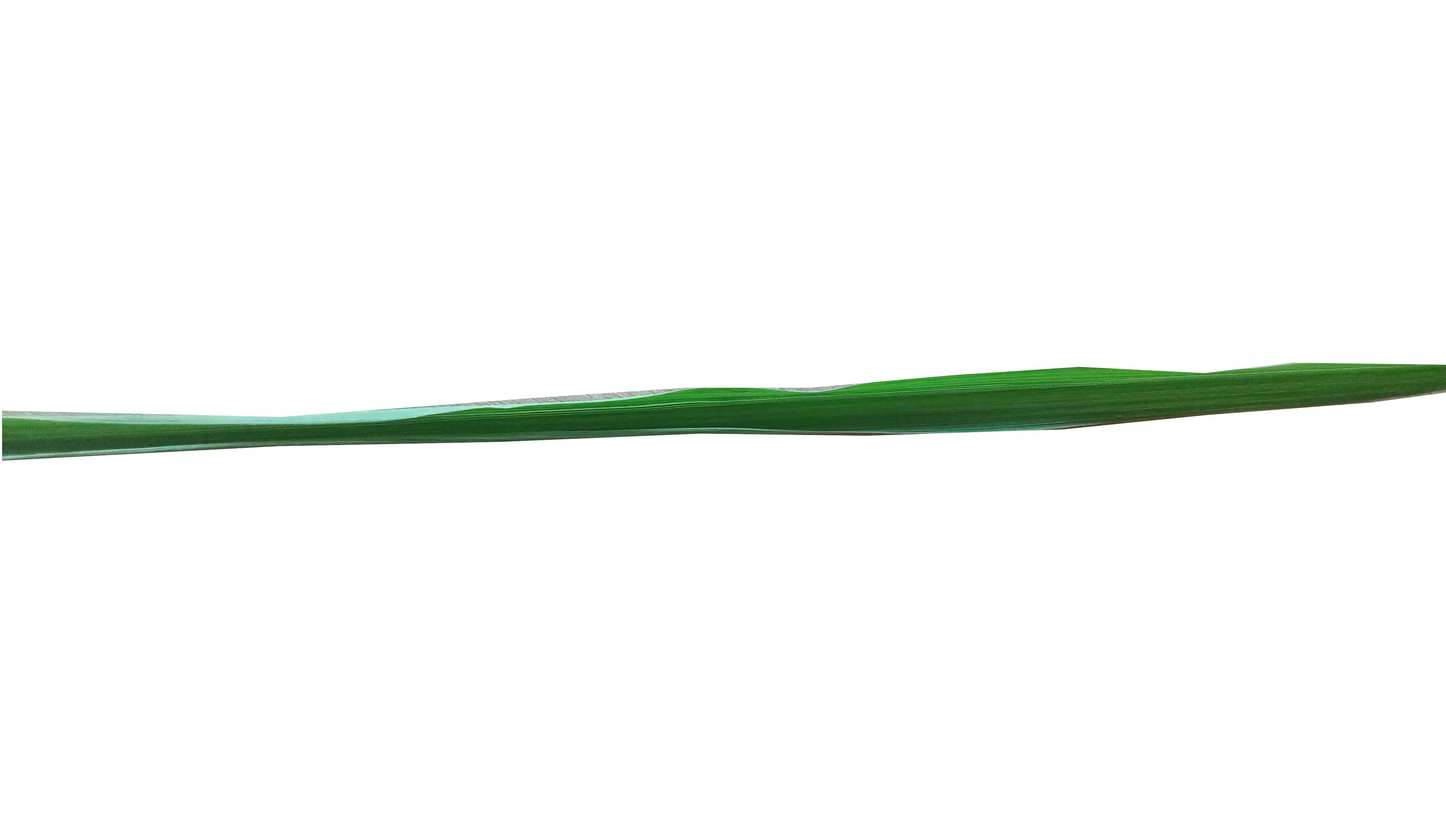Healthy: (0, 364, 1446, 460)
